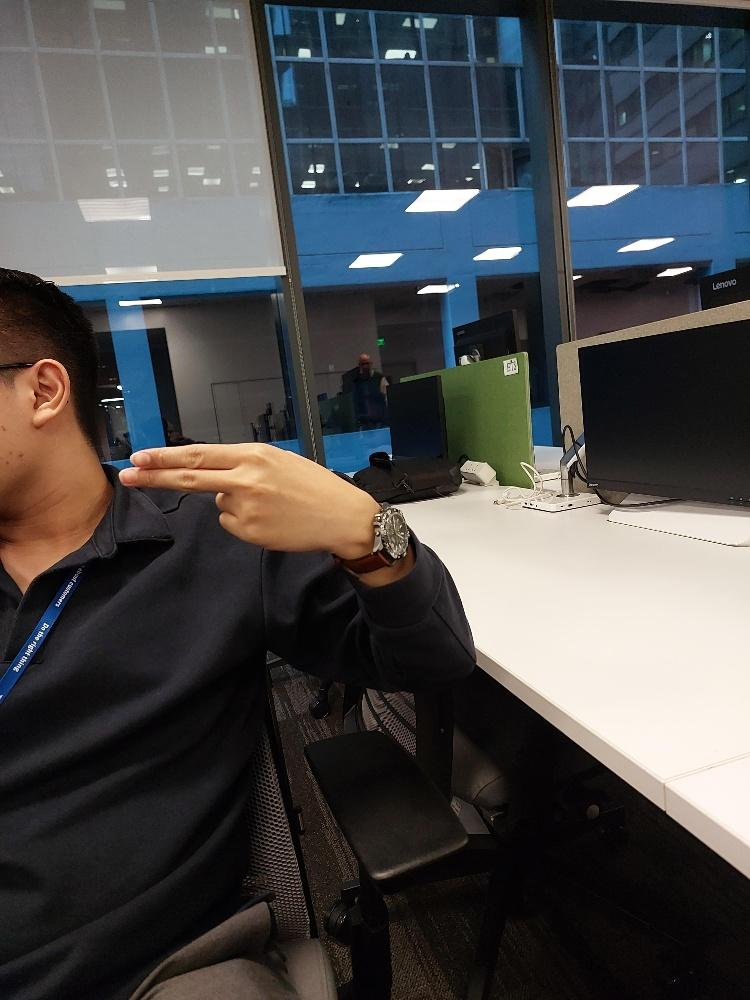h: (118, 438, 346, 549)
